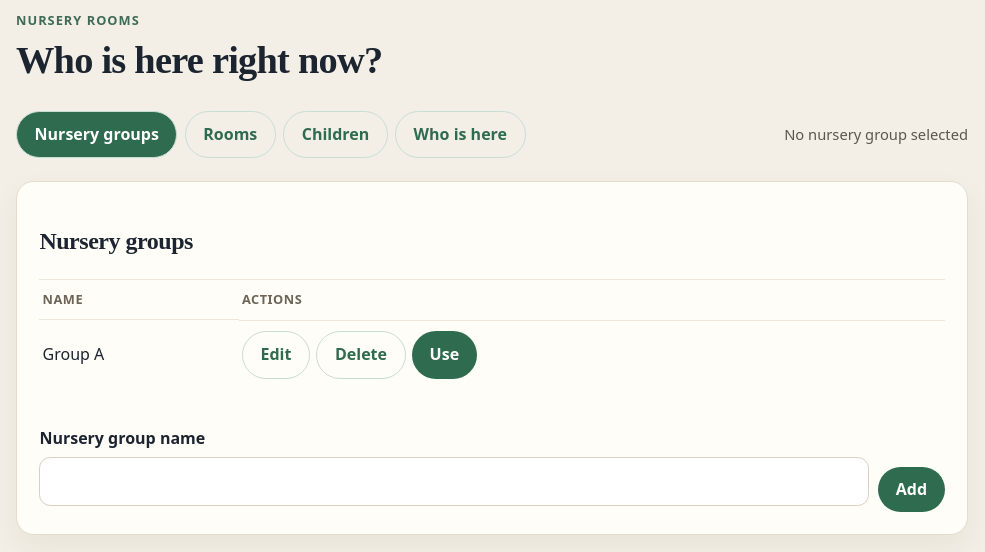
Scenario: directory tables › adds a room by name
The image size is (985, 552).
Expected: the text "Group A" is shown, [39,320,239,389]
Click the button "Use" at (444, 355), box [412,331,477,379]
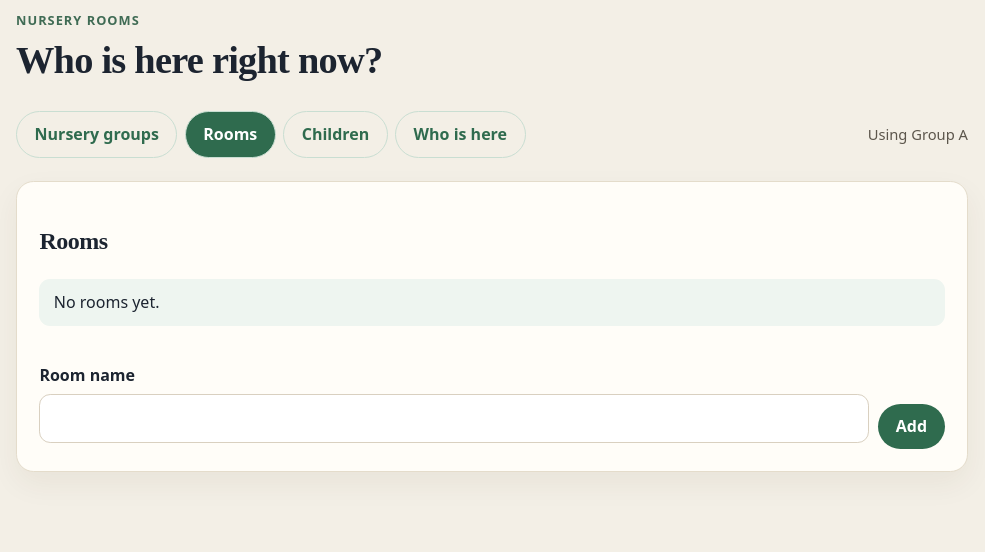
Expected: the heading "Rooms" is shown, [39,228,108,254]
Type "Little Explorers" into the field labelled "Room name" at (454, 418), box [39,394,868,443]
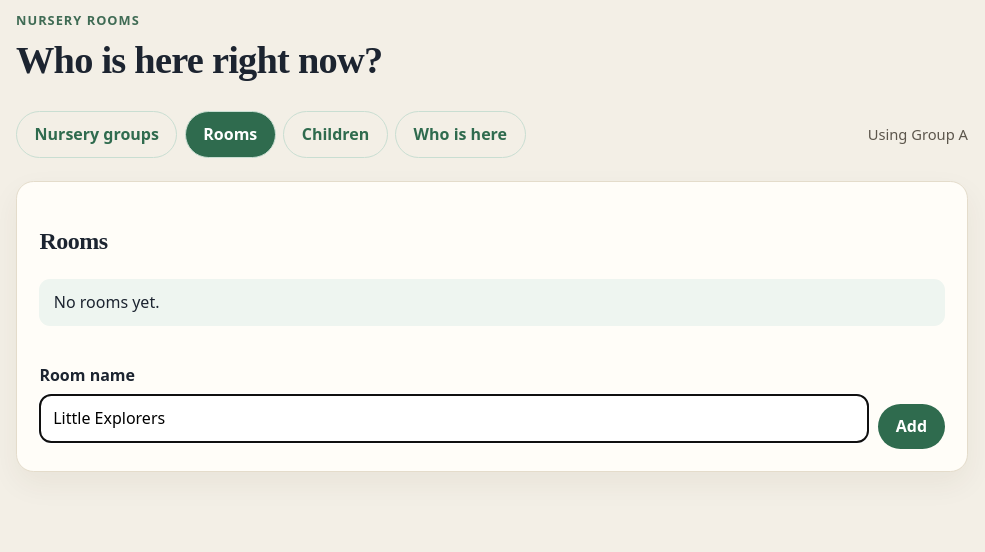
Click the button "Add" at (911, 426), box [878,404,945,449]
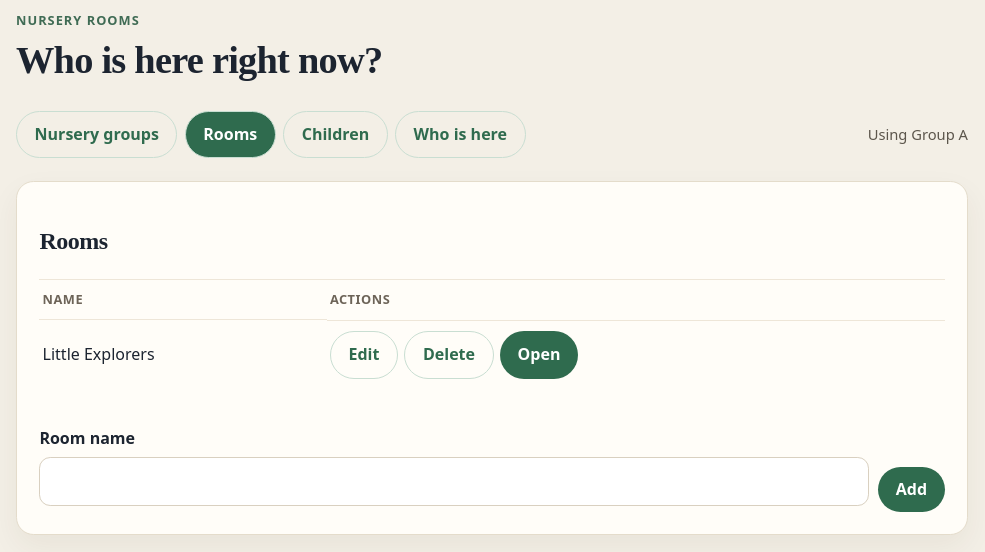
Expected: the text "Little Explorers" is shown, [39,320,327,389]
